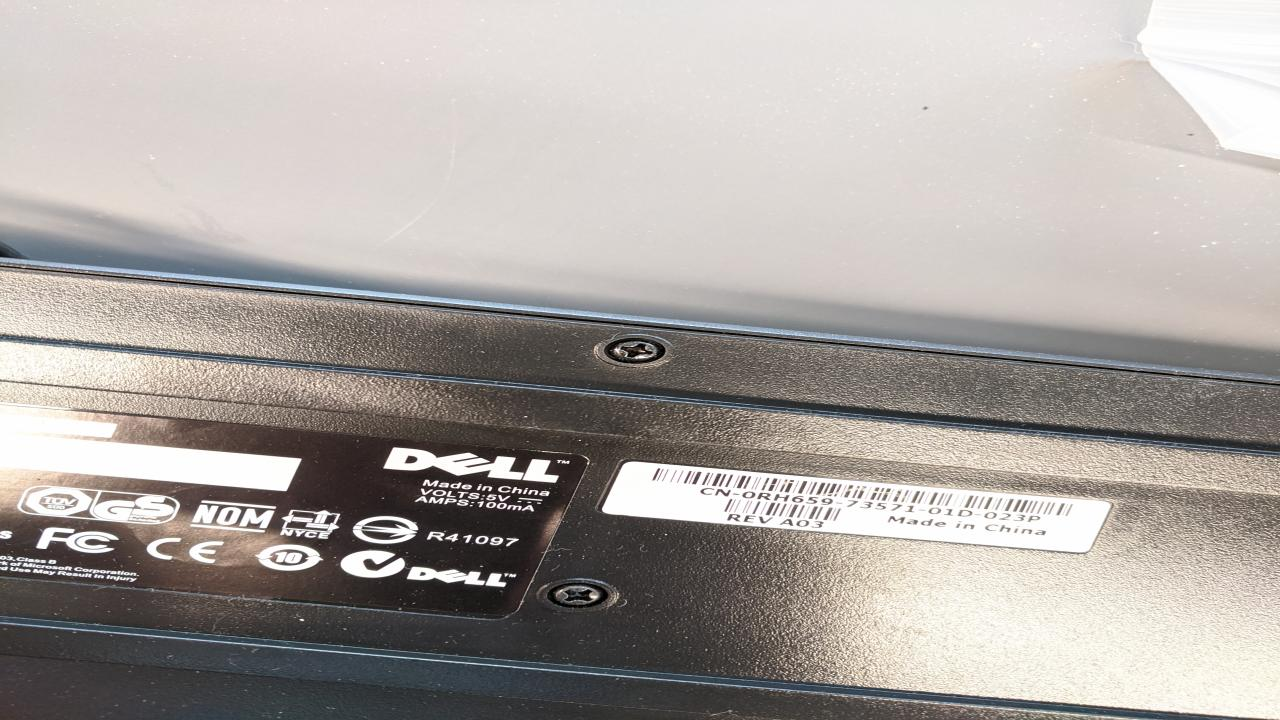CRS: (551, 582, 603, 609), (608, 339, 662, 364)
